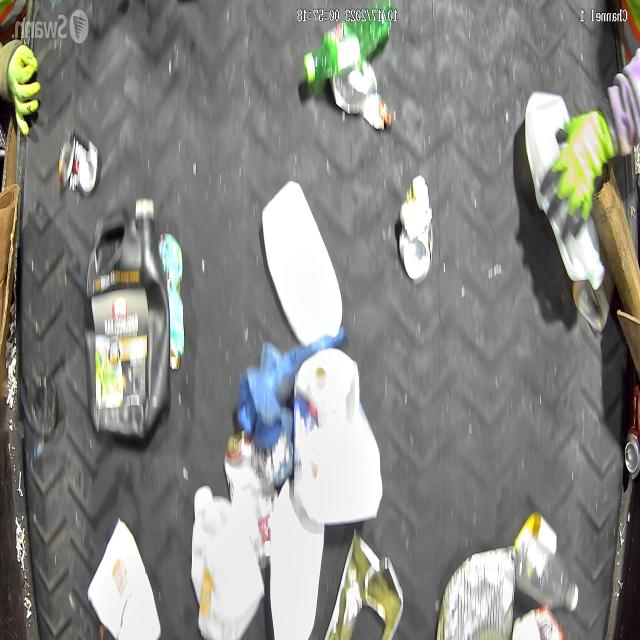can: (396, 181, 434, 282), (59, 128, 100, 194), (624, 386, 640, 480)
milk_jug: (290, 346, 382, 526), (524, 92, 603, 287), (262, 182, 344, 348), (190, 483, 266, 640), (270, 477, 325, 640)
non_white_jug: (83, 199, 170, 444)
plastic_bottle: (510, 511, 578, 611)
